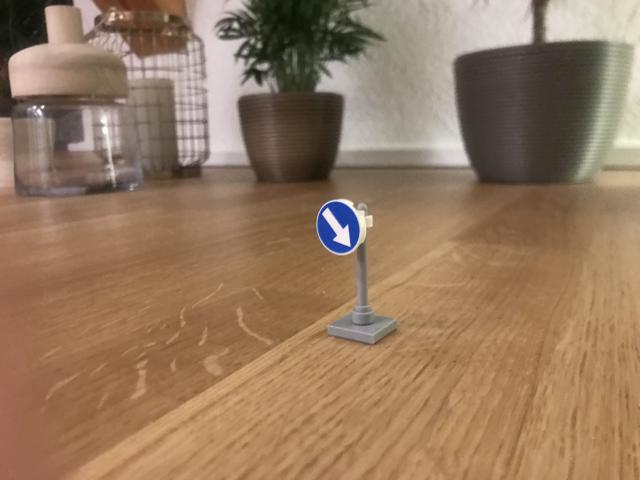rechts halten: (317, 199, 371, 257)
